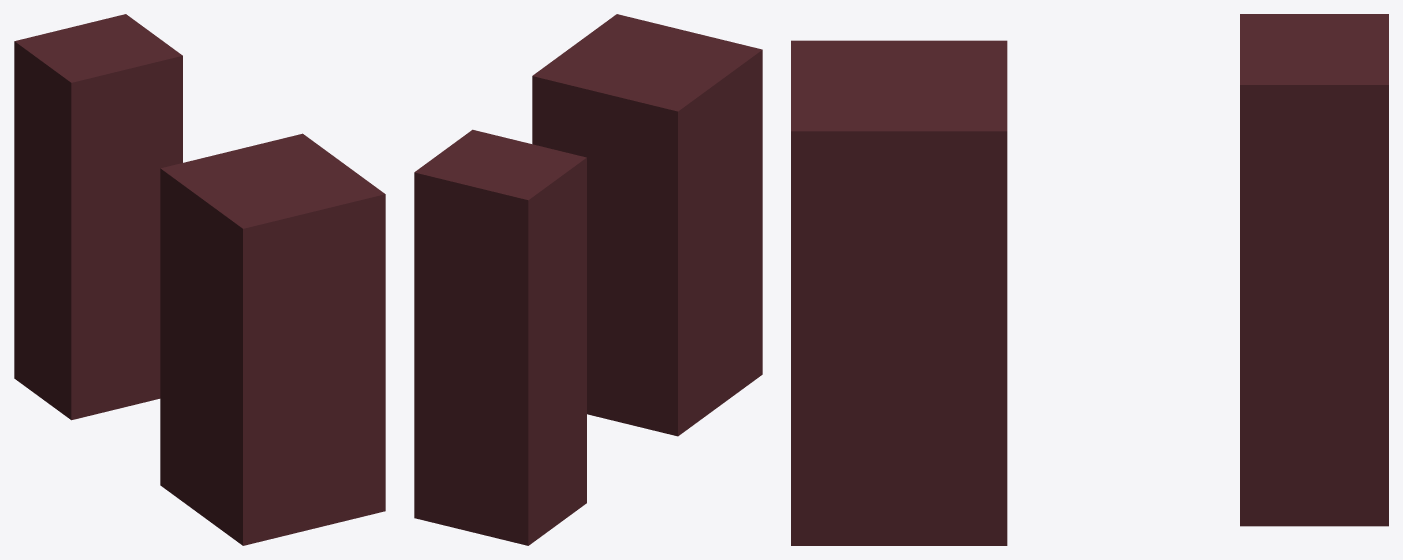
File: BuildingsW_BuildingRed.fbx
3 views of the same model, side by side, from view 1: azimuth 30°, elevation 25°; view 2: azimuth 150°, elevation 25°; view 3: azimuth 270°, elevation 25° (orthographic). The views are drawn at different scales.
Parts seen in each view (by area): view 1: BldgW2.001; view 2: BldgW2.001; view 3: BldgW2.001.
Boxes of the visible parts, x1,y1,x2,y2 form: BldgW2.001: [14, 14, 385, 545]; BldgW2.001: [414, 14, 762, 545]; BldgW2.001: [791, 14, 1388, 545].
Size of the model in its own units: 2738 by 6200 by 7617.
